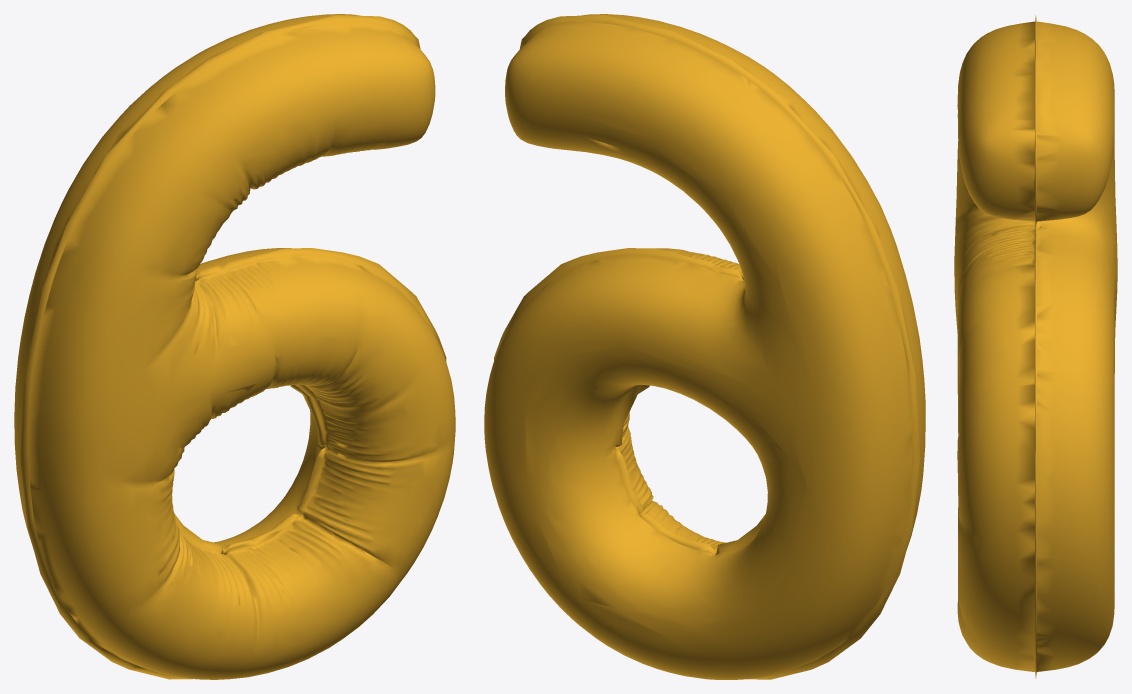
The model's file is zahlen-gold-nr6-gruppe.glb.
3 renders of one model, left to right at view 1: azimuth 30°, elevation 25°; view 2: azimuth 150°, elevation 25°; view 3: azimuth 270°, elevation 25°, orthographic.
Visible parts, largest first — view 1: nr6; view 2: nr6; view 3: nr6.
Boxes of the visible parts, <box> form: nr6: <box>14,14,455,679</box>; nr6: <box>484,14,925,679</box>; nr6: <box>954,15,1117,678</box>.
Size of the model in its own units: 0.4483 by 0.6365 by 0.147.
